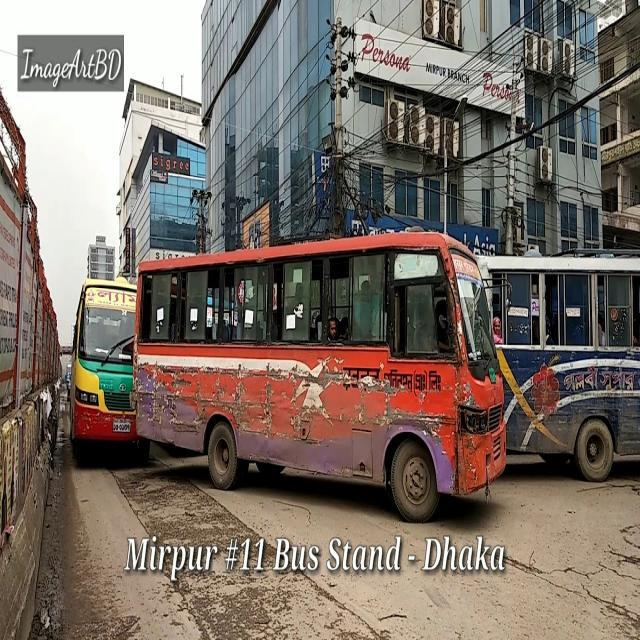bus: (132, 225, 507, 523)
